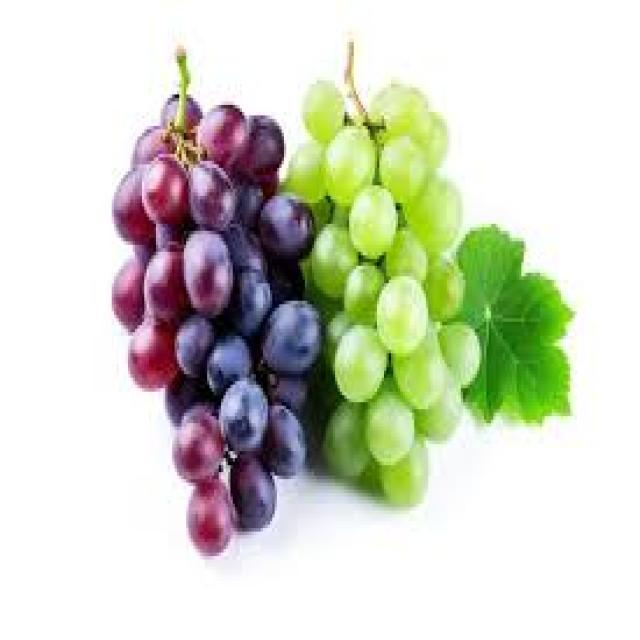Grapes: (320, 404, 384, 489), (262, 300, 323, 376), (182, 230, 229, 324), (171, 411, 226, 488), (400, 339, 453, 414), (410, 180, 466, 248), (185, 476, 233, 554), (234, 448, 277, 532), (307, 239, 362, 303), (112, 260, 161, 330), (334, 331, 385, 398), (324, 126, 370, 199), (370, 397, 417, 467), (346, 193, 395, 260), (263, 412, 309, 482), (145, 161, 191, 231), (203, 109, 249, 178), (127, 329, 178, 391), (221, 380, 266, 449), (380, 143, 428, 207), (114, 171, 156, 242), (417, 268, 470, 323), (139, 261, 187, 321), (261, 202, 309, 262), (375, 92, 425, 147), (245, 107, 281, 183), (382, 289, 428, 348), (346, 262, 385, 329), (239, 279, 278, 343), (193, 166, 235, 225), (203, 347, 259, 388), (303, 90, 344, 141), (171, 327, 217, 372), (449, 326, 485, 383), (293, 145, 329, 200)
